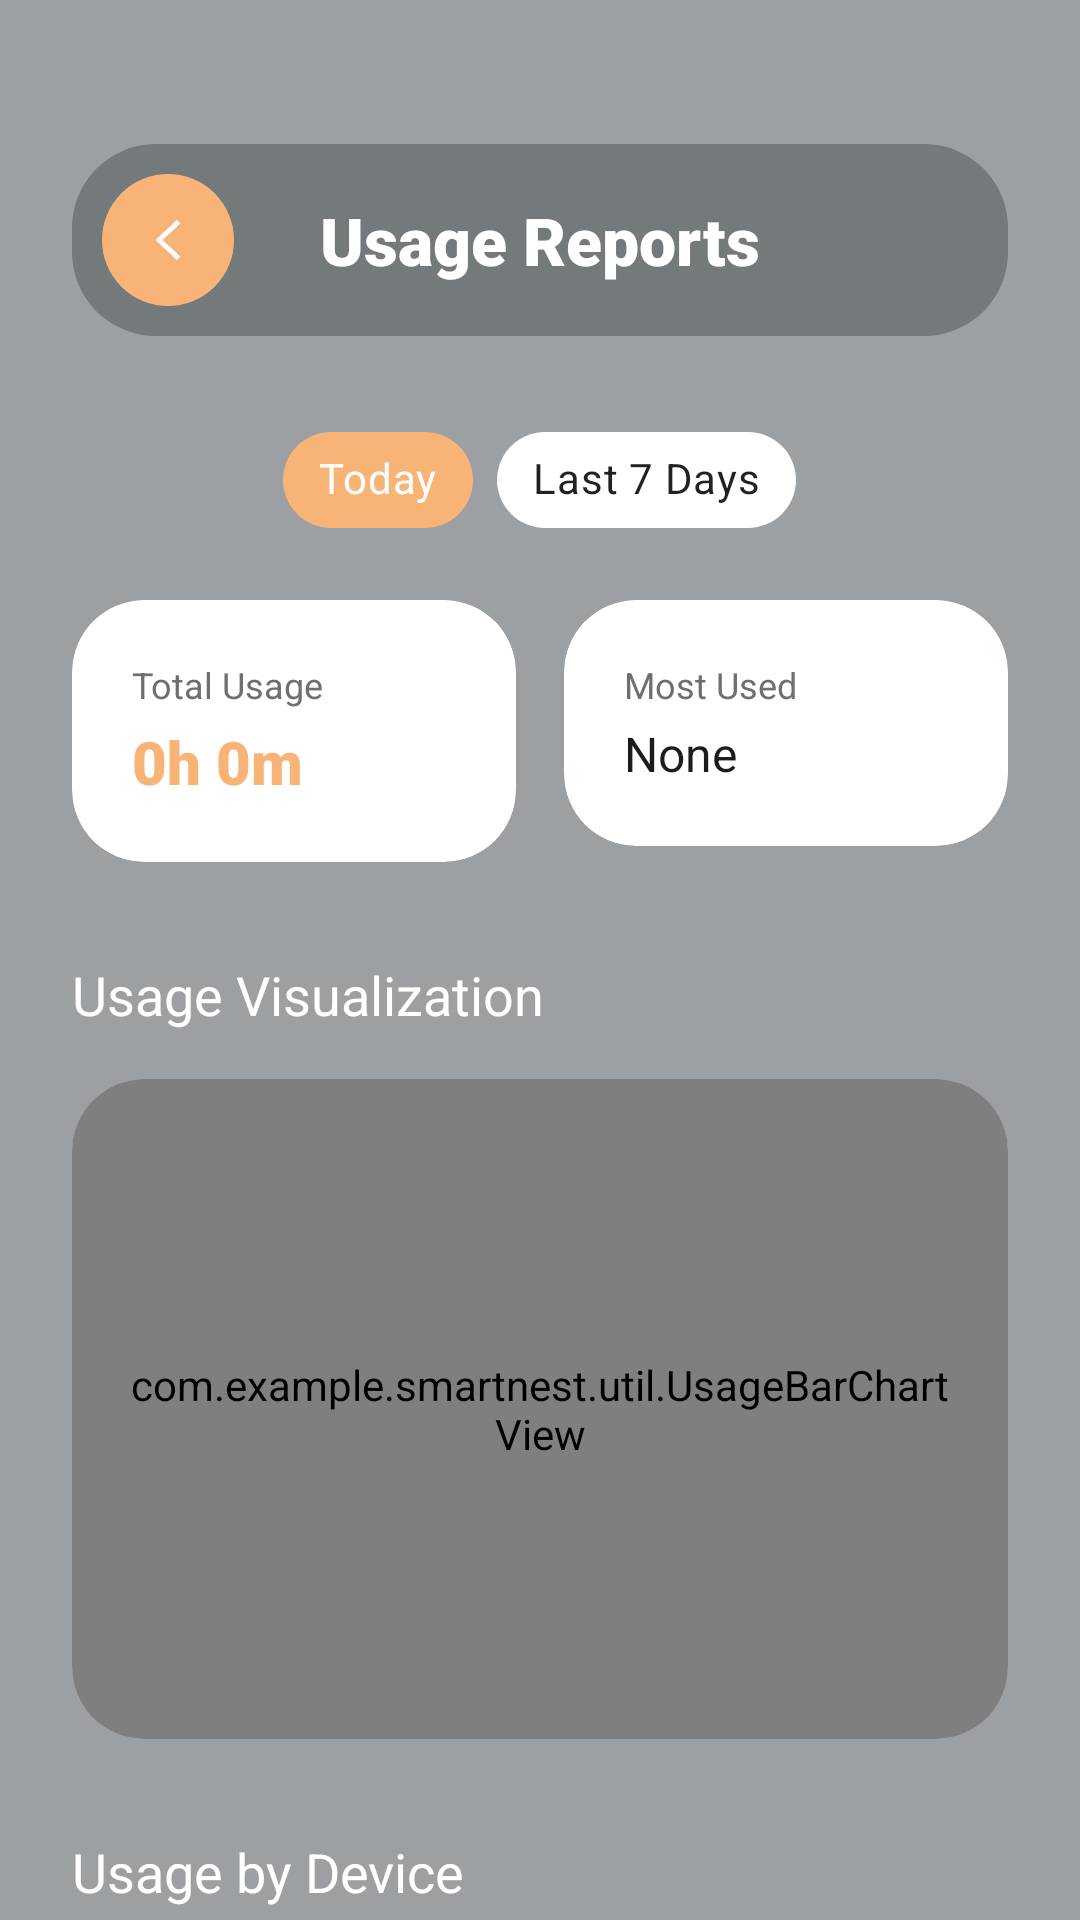

Screen size 1080px x 1920px. Icon name, then its box in pixels as (x1, y1, x2, y2):
back: (156, 220, 180, 260)
